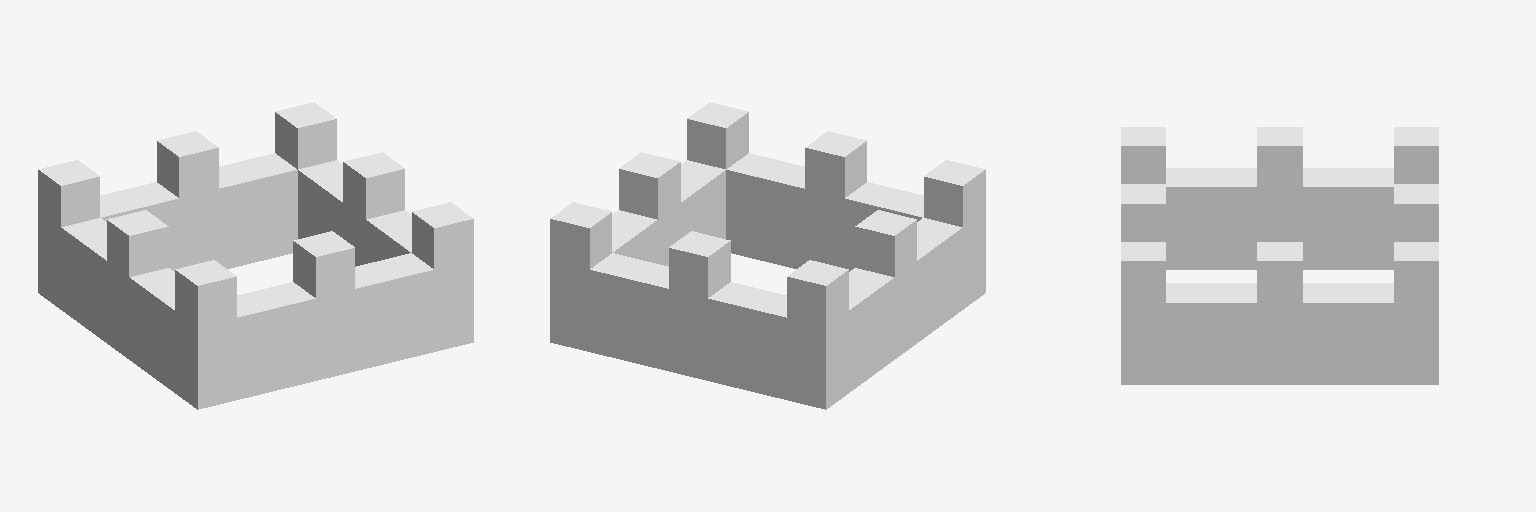
File: Crown0.obj
3 views of the same model, side by side, from view 1: azimuth 30°, elevation 25°; view 2: azimuth 150°, elevation 25°; view 3: azimuth 270°, elevation 25° (orthographic).
Visible parts, largest first — view 1: object 1; view 2: object 1; view 3: object 1.
Part boxes in pixels (x1,y1,x2,y2): object 1: (38, 102, 473, 409); object 1: (550, 102, 985, 409); object 1: (1121, 127, 1438, 384).
Bounding box in the file's own units: 0.7 × 0.3 × 0.7.